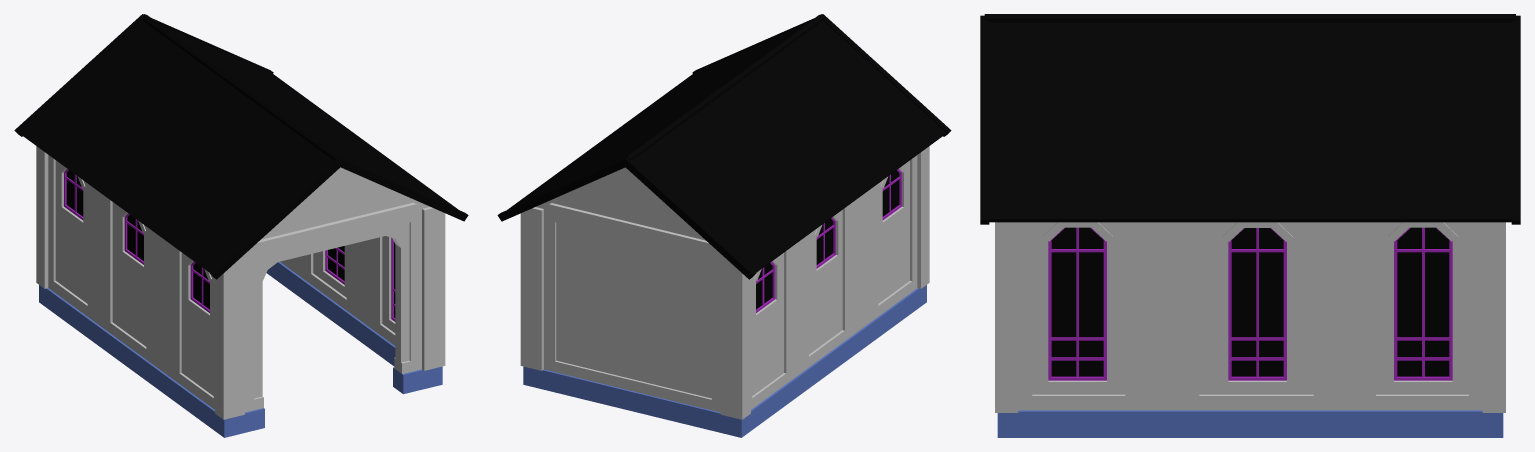
Rendered from SM_garage.fbx.
The picture shows the model from 3 angles, left to right: view 1: azimuth 30°, elevation 25°; view 2: azimuth 150°, elevation 25°; view 3: azimuth 270°, elevation 25°; orthographic projection. The views are drawn at different scales.
Visible parts, largest first — view 1: Cube_48, Cube_4; view 2: Cube_48, Cube_4; view 3: Cube_4, Cube_48.
Boxes of the visible parts, <box> form: Cube_48: <box>36,146,445,437</box>; Cube_4: <box>14,14,468,279</box>; Cube_48: <box>520,146,929,437</box>; Cube_4: <box>497,14,951,279</box>; Cube_4: <box>980,14,1520,224</box>; Cube_48: <box>995,222,1505,437</box>.
Size of the model in its own units: 720 by 693 by 965.
